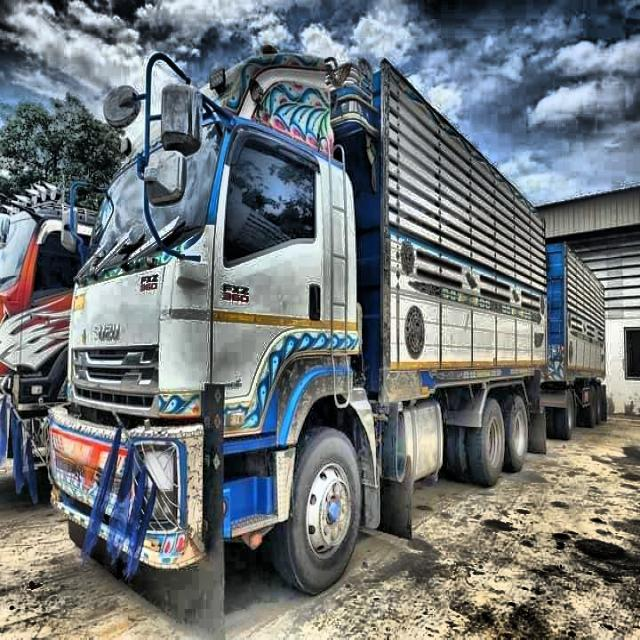trailer: (43, 42, 618, 619)
